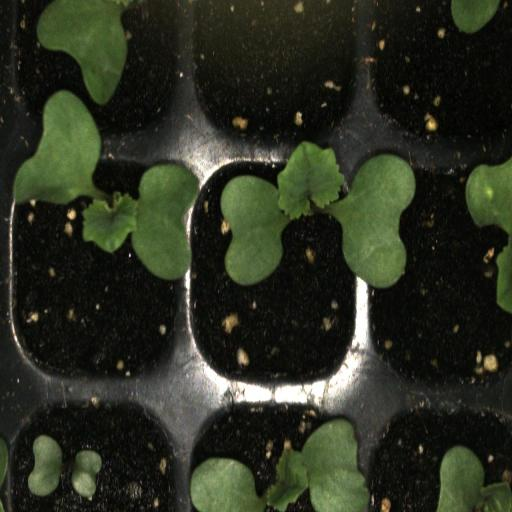Folha: (436, 445, 512, 512), (175, 0, 246, 60), (28, 434, 62, 497)
Germinacao: (4, 146, 184, 394), (187, 159, 364, 395), (4, 395, 188, 512), (188, 393, 366, 512)
